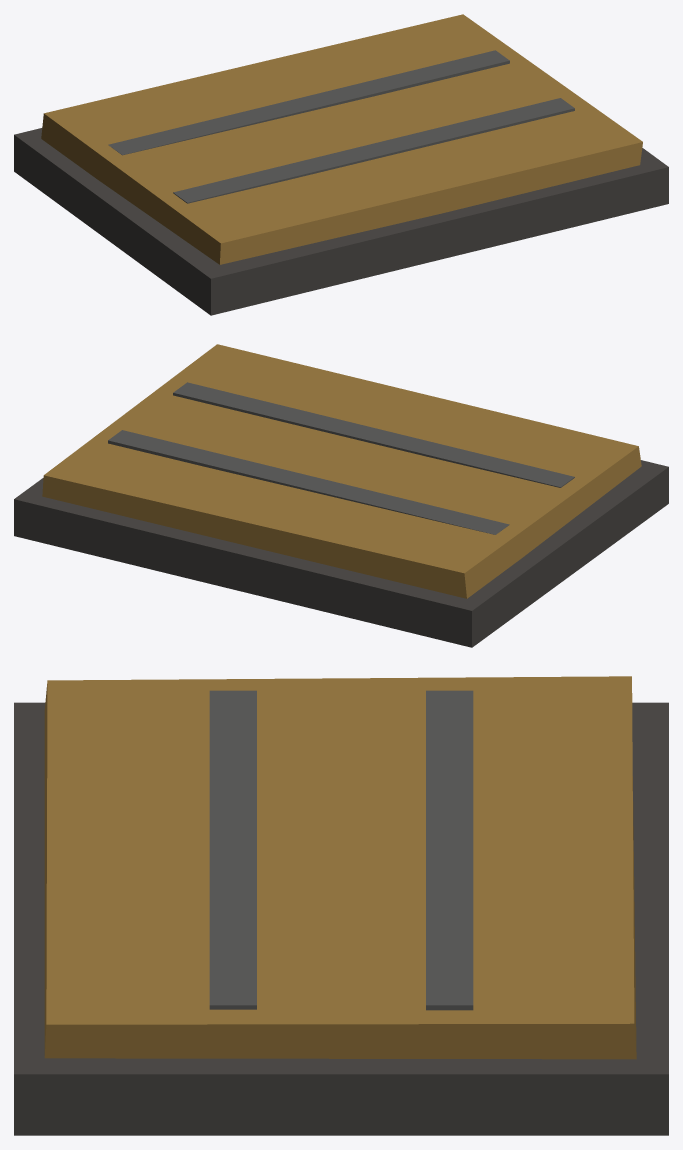
File: deck_tile.glb
3 renders of one model, top to bottom at view 1: azimuth 30°, elevation 25°; view 2: azimuth 150°, elevation 25°; view 3: azimuth 270°, elevation 25°, orthographic. The views are drawn at different scales.
Visible parts, largest first — view 1: deck_tile; view 2: deck_tile; view 3: deck_tile.
Boxes of the visible parts, x1,y1,x2,y2 form: deck_tile: (14, 14, 668, 315); deck_tile: (14, 344, 668, 647); deck_tile: (14, 676, 668, 1135).
Bounding box in the file's own units: 0.65 × 0.0838 × 0.484.
